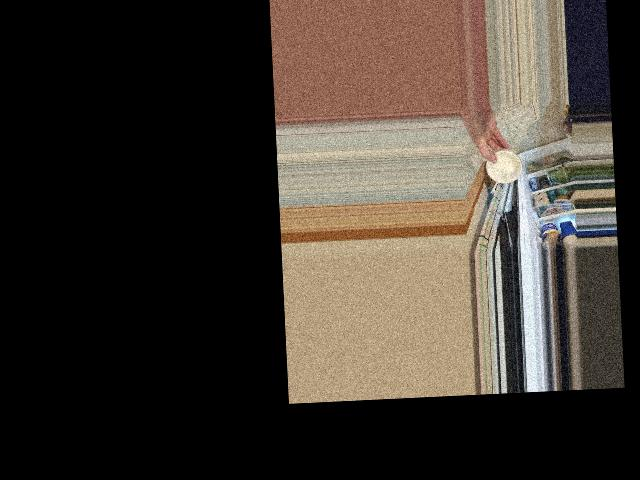cotage: (486, 149, 523, 186)
